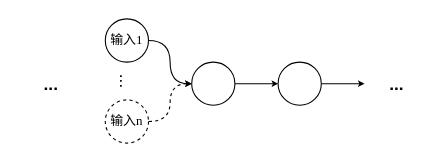
Some shapes in this 447 by 162 pixel diagram are drawn without their labels. Each missing label, with the centre of its shape:
"操作符" goes at point 213,83.
"输出" goes at point 299,83.
